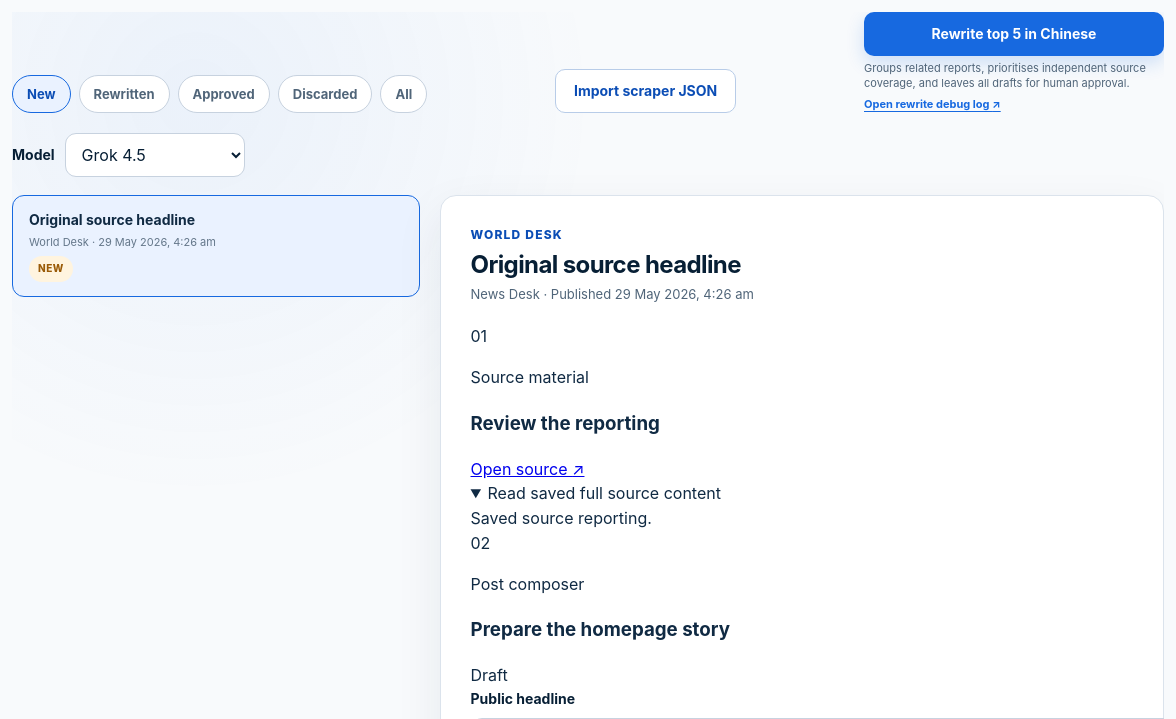
Test: PipelineWorkspace post composer › requests a detailed full-source article for each Top 5 story
The width and height of the screenshot is (1176, 719).
expect the heading "Original source headline" is shown: met, box [470,250,754,280]
Click the button "Rewrite top 5 in Chinese" at (1014, 34), box [864,12,1164,56]
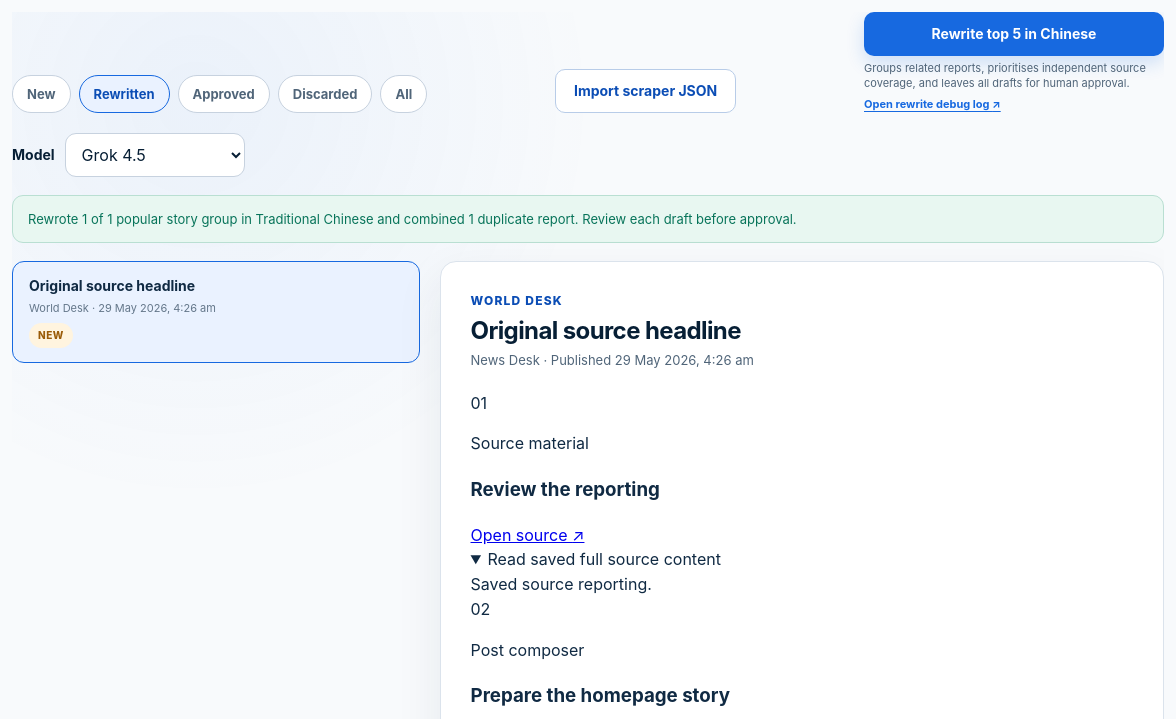
expect the text "combined 1 duplicate report" is shown: met, box [28,211,797,227]
